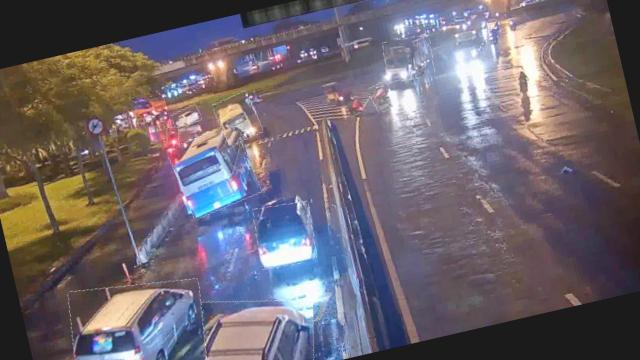Bike: (368, 80, 398, 113), (514, 63, 535, 96), (164, 126, 182, 150)
Bus: (168, 124, 262, 219)
Car: (60, 267, 217, 360), (181, 282, 324, 360), (250, 198, 320, 272), (170, 105, 203, 130)
Truck: (381, 33, 437, 85), (212, 90, 264, 146)
